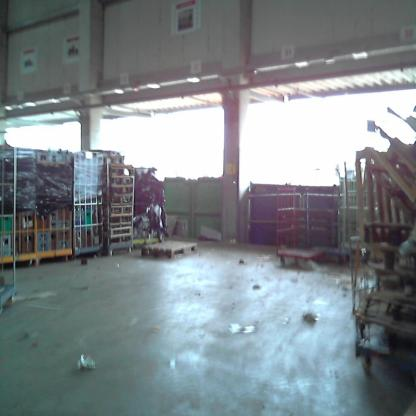pallet: (141, 239, 204, 259)
